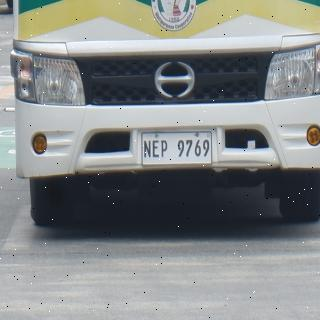license: (143, 133, 213, 166)
